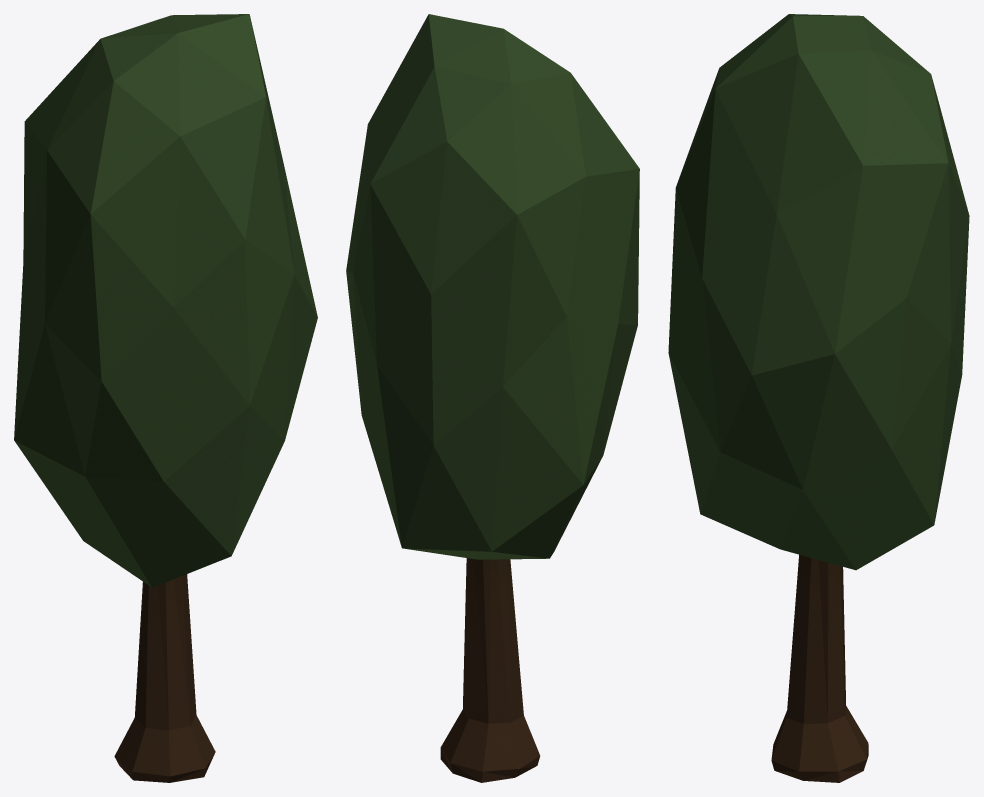
File: tree9.obj
3 renders of one model, left to right at view 1: azimuth 30°, elevation 25°; view 2: azimuth 150°, elevation 25°; view 3: azimuth 270°, elevation 25°, orthographic. The views are drawn at different scales.
Parts seen in each view (by area): view 1: Tree9_Plane.020_Tree9_Plane.020_Leaves.005, Tree9_Plane.020_Tree9_Plane.020_Trunk.005; view 2: Tree9_Plane.020_Tree9_Plane.020_Leaves.005, Tree9_Plane.020_Tree9_Plane.020_Trunk.005; view 3: Tree9_Plane.020_Tree9_Plane.020_Leaves.005, Tree9_Plane.020_Tree9_Plane.020_Trunk.005.
Boxes of the visible parts, left/top/right/bottom form: Tree9_Plane.020_Tree9_Plane.020_Leaves.005: left=14, top=14, right=317, bottom=587; Tree9_Plane.020_Tree9_Plane.020_Trunk.005: left=114, top=574, right=215, bottom=782; Tree9_Plane.020_Tree9_Plane.020_Leaves.005: left=346, top=14, right=639, bottom=559; Tree9_Plane.020_Tree9_Plane.020_Trunk.005: left=440, top=558, right=540, bottom=782; Tree9_Plane.020_Tree9_Plane.020_Leaves.005: left=668, top=14, right=969, bottom=570; Tree9_Plane.020_Tree9_Plane.020_Trunk.005: left=771, top=554, right=868, bottom=782.
Size of the model in its own units: 1.94 by 5.2 by 1.89.
Materials: 2 (2 with a texture image).
